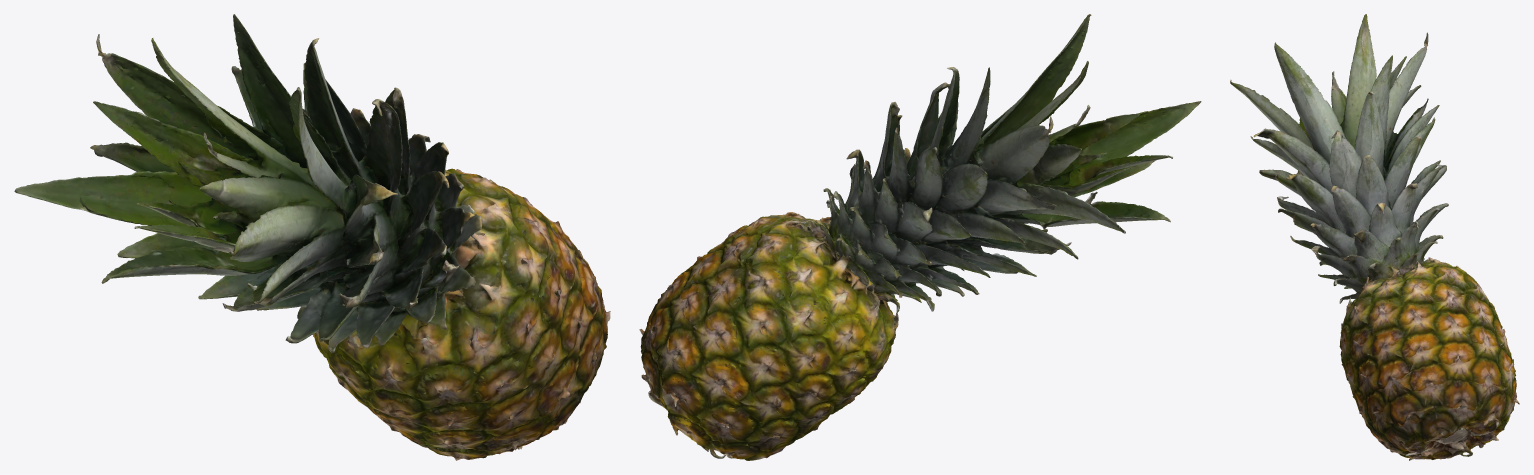
The picture shows the model from 3 angles, left to right: view 1: azimuth 30°, elevation 25°; view 2: azimuth 150°, elevation 25°; view 3: azimuth 270°, elevation 25°; orthographic projection. The views are drawn at different scales.
Visible parts, largest first — view 1: Object_2; view 2: Object_2; view 3: Object_2.
Boxes of the visible parts, left/top/right/bottom form: Object_2: left=14, top=14, right=610, bottom=460; Object_2: left=639, top=14, right=1201, bottom=460; Object_2: left=1230, top=14, right=1519, bottom=460.
Size of the model in its own units: 35.6 by 31.49 by 24.95.
Materials: 1 (1 with a texture image).
